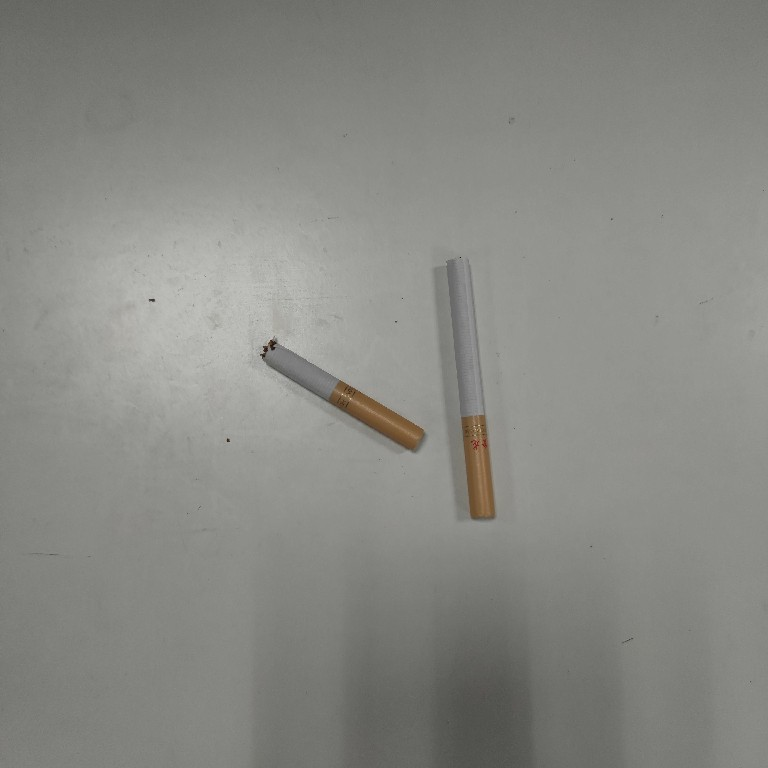cigarette: (258, 337, 429, 453), (444, 252, 498, 522)
